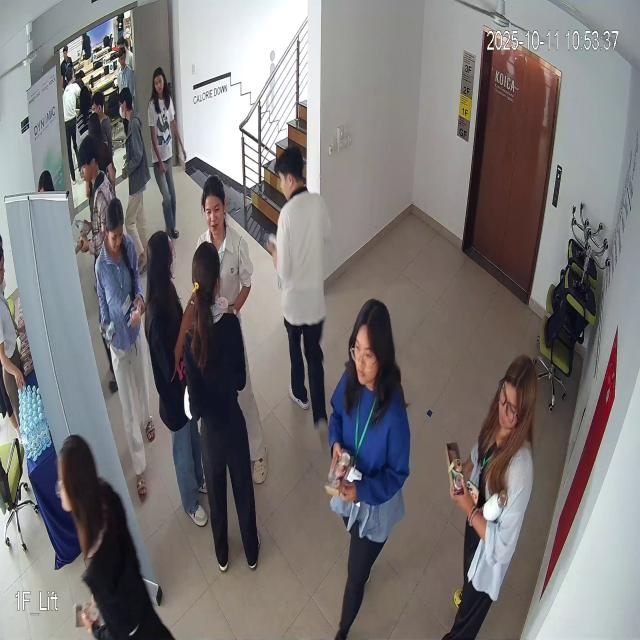face: (349, 292, 392, 392), (198, 176, 230, 237), (104, 187, 127, 266)
